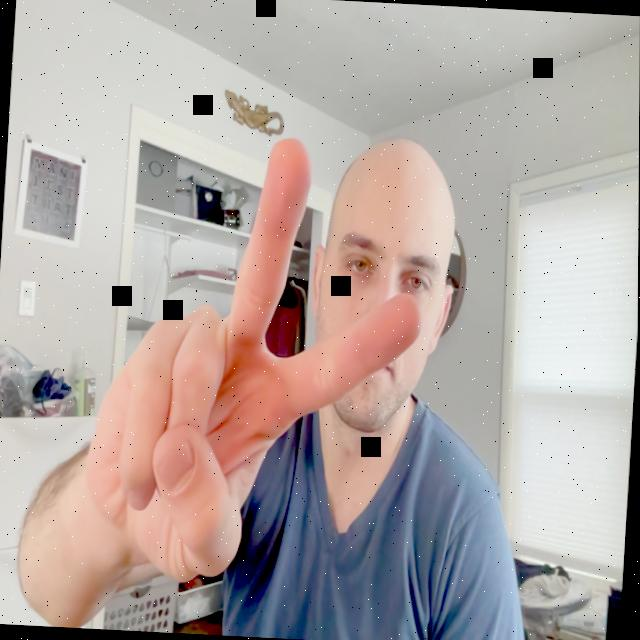Scissors: (80, 117, 435, 599)
